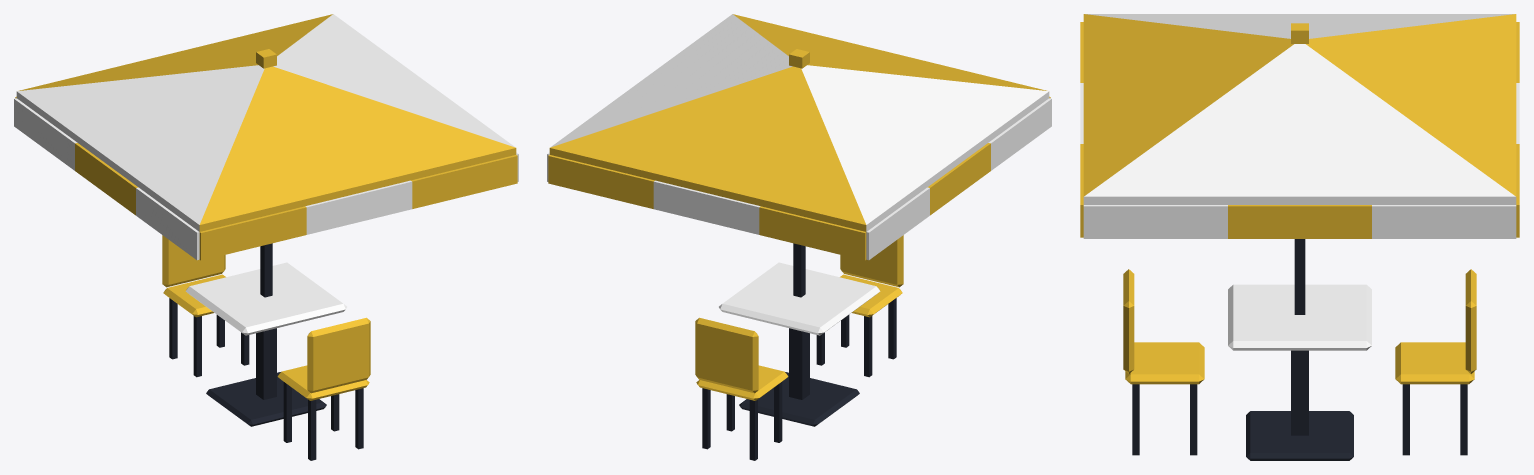
The model's file is cafe-parasol-set.glb.
3 views of the same model, side by side, from view 1: azimuth 30°, elevation 25°; view 2: azimuth 150°, elevation 25°; view 3: azimuth 270°, elevation 25° (orthographic). The views are drawn at different scales.
Visible parts, largest first — view 1: cafe-parasol-set; view 2: cafe-parasol-set; view 3: cafe-parasol-set.
Boxes of the visible parts, x1,y1,x2,y2 form: cafe-parasol-set: (14,14,518,460); cafe-parasol-set: (547,14,1051,460); cafe-parasol-set: (1080,14,1519,460).
Size of the model in its own units: 2.44 by 2.53 by 2.44.
